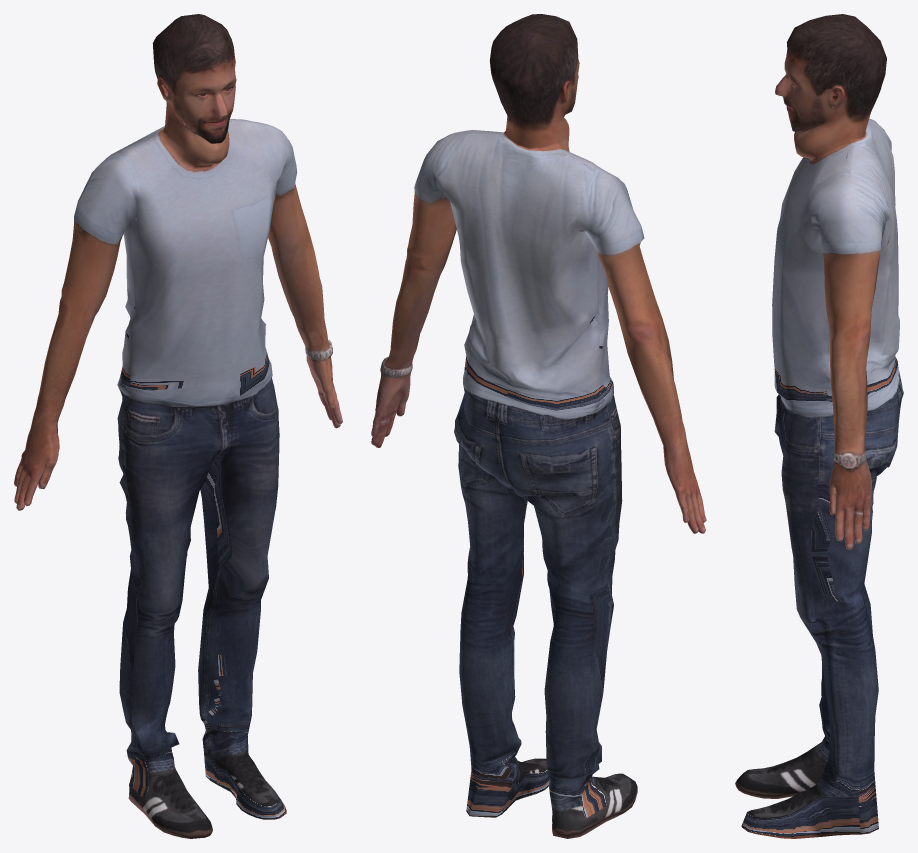
The model's file is human2.fbx.
3 renders of one model, left to right at view 1: azimuth 30°, elevation 25°; view 2: azimuth 150°, elevation 25°; view 3: azimuth 270°, elevation 25°, orthographic. The views are drawn at different scales.
Visible parts, largest first — view 1: polySurface3; view 2: polySurface3; view 3: polySurface3.
Boxes of the visible parts, x1,y1,x2,y2 form: polySurface3: (14, 14, 342, 838); polySurface3: (371, 14, 706, 838); polySurface3: (735, 14, 903, 838).
Size of the model in its own units: 80.99 by 187 by 36.
